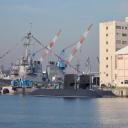submarine: (23, 74, 103, 97), (77, 75, 118, 98)
